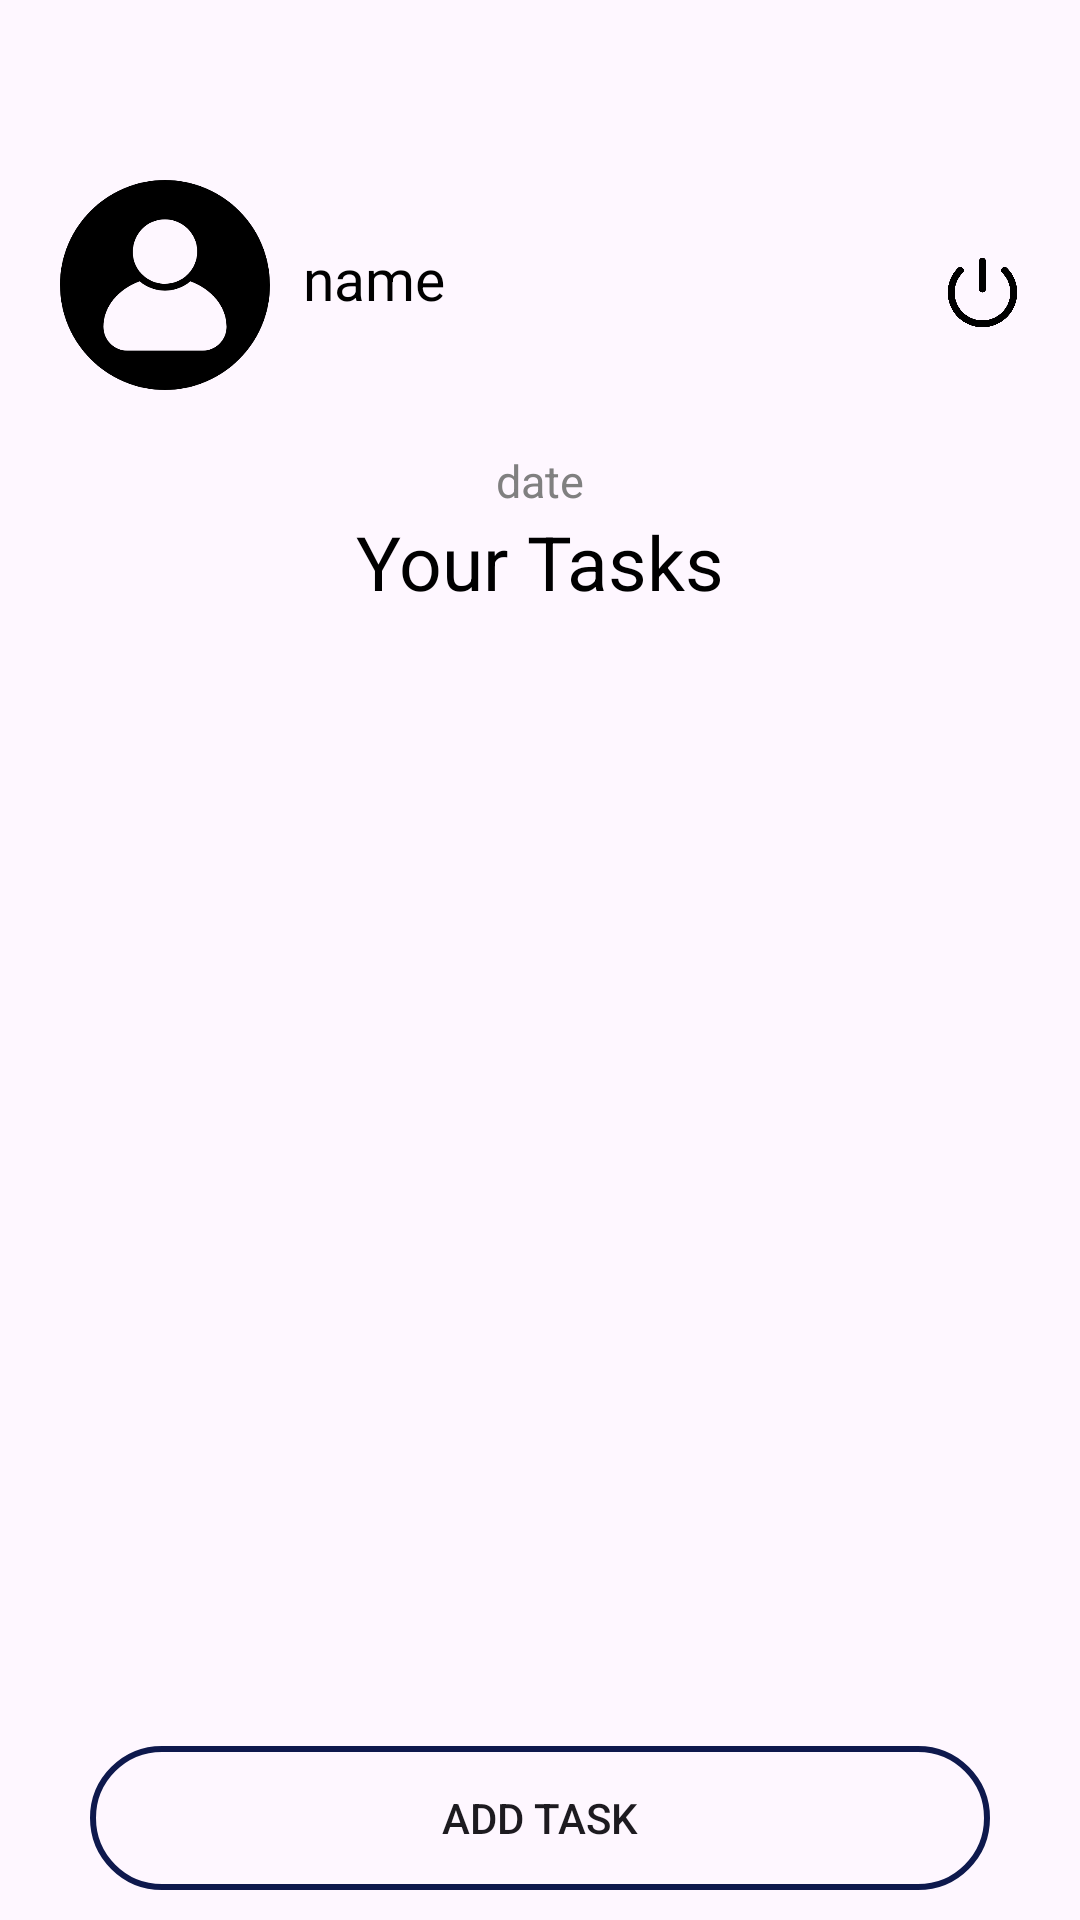

Point at icon controls on the screen. Image size 1080px x 1920px, points as (x,y).
profile: (165,285)
